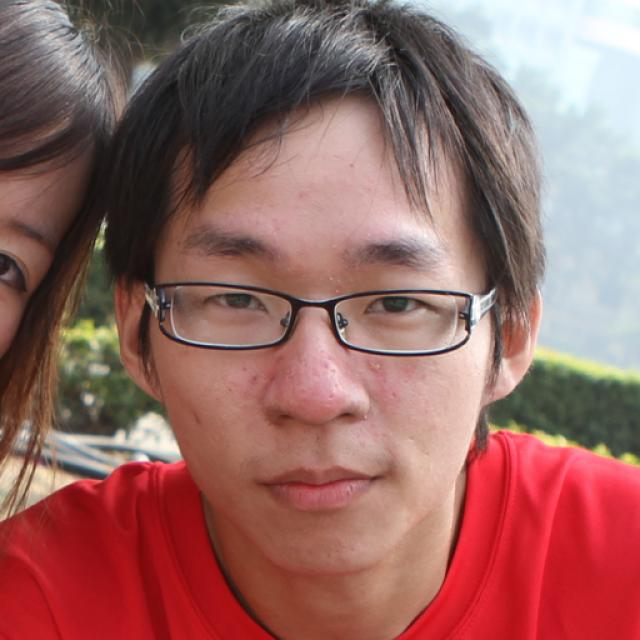Acne: (321, 275, 344, 299), (360, 357, 386, 376), (355, 408, 373, 424)
